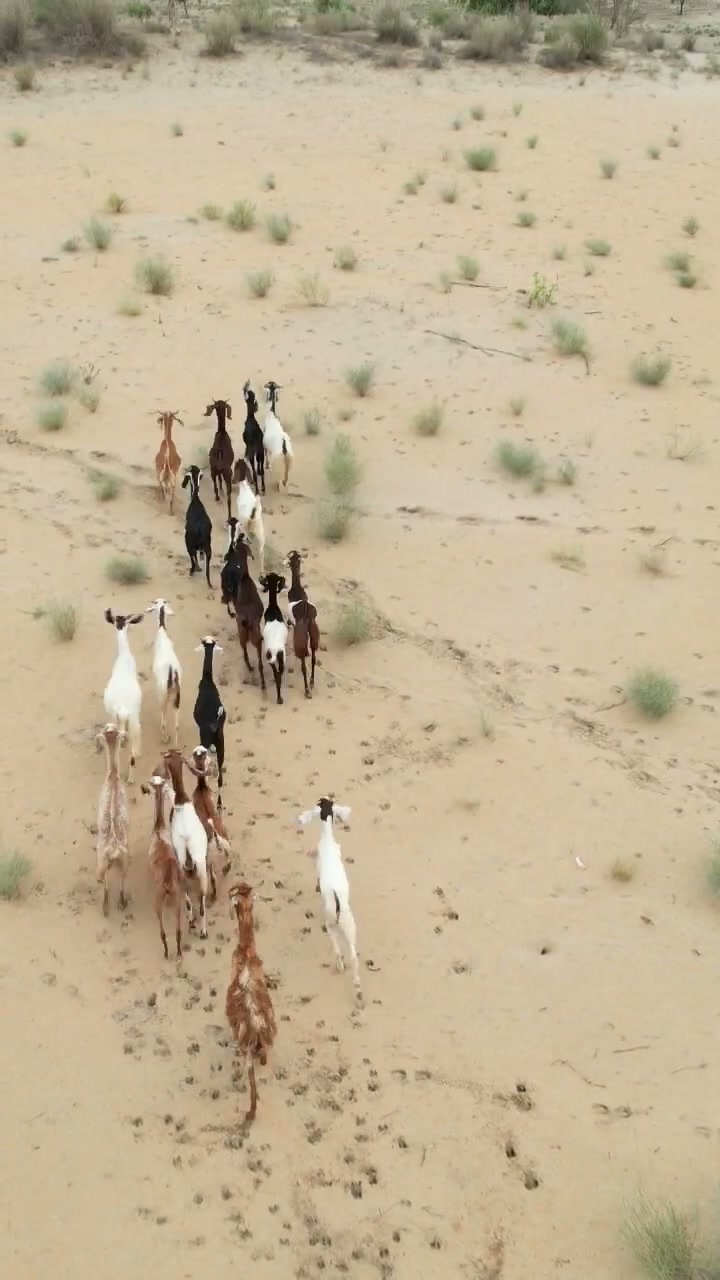animal_foot_print: (109, 716, 403, 1268)
